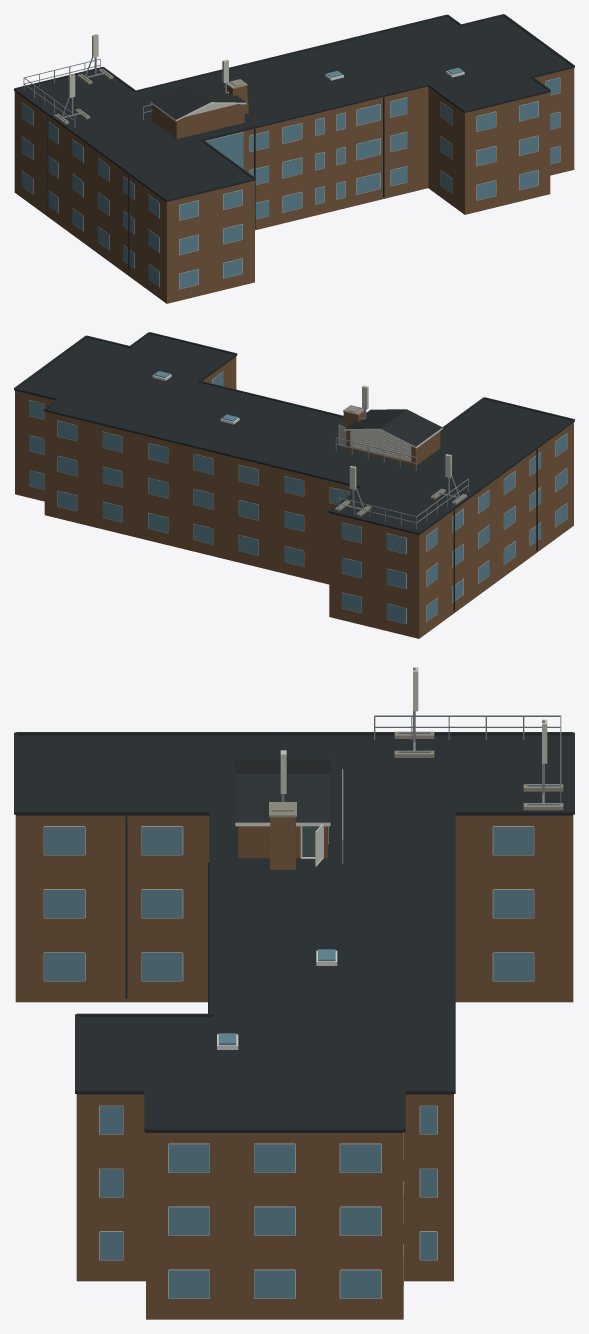
Rendered from 7111-honeypot-building-visual-01.obj.
3 renders of one model, top to bottom at view 1: azimuth 30°, elevation 25°; view 2: azimuth 150°, elevation 25°; view 3: azimuth 270°, elevation 25°, orthographic. The views are drawn at different scales.
Parts seen in each view (by area): view 1: main_roof, facade_05, facade_02, facade_03, facade_07, facade_06, facade_09, pitched_roof, room_gable_wall, facade_13_coping, facade_05_opening_00, rainwater_pipes (+7 smaller); view 2: main_roof, facade_13, facade_02, facade_01, facade_11, pitched_roof, room_white_cladding, facade_13_coping, roof_rails, facade_02_coping, facade_06, room_cladding_joints (+3 smaller); view 3: main_roof, facade_10, facade_04, facade_00, facade_08, facade_12, pitched_roof, facade_02_coping, chimney_brick, room_door_wall, roof_rails, facade_04_opening_01 (+22 smaller).
Part boxes in pixels (<box>): main_roof: <box>17,16,571,199</box>; facade_05: <box>205,86,428,230</box>; facade_02: <box>14,91,166,303</box>; facade_03: <box>167,180,254,303</box>; facade_07: <box>465,92,550,214</box>; facade_06: <box>428,87,464,214</box>; facade_09: <box>535,68,574,175</box>; pitched_roof: <box>150,83,246,119</box>; room_gable_wall: <box>176,104,244,138</box>; facade_13_coping: <box>135,14,446,92</box>; facade_05_opening_00: <box>205,131,243,168</box>; rainwater_pipes: <box>47,97,384,274</box>; main_roof: <box>17,334,571,532</box>; facade_13: <box>44,411,358,584</box>; facade_02: <box>419,422,573,638</box>; facade_01: <box>329,513,419,638</box>; facade_11: <box>15,390,54,501</box>; pitched_roof: <box>344,409,442,446</box>; room_white_cladding: <box>350,430,411,461</box>; facade_13_coping: <box>44,409,362,487</box>; roof_rails: <box>335,437,468,529</box>; facade_02_coping: <box>419,419,574,534</box>; facade_06: <box>202,356,236,389</box>; room_cladding_joints: <box>350,430,410,459</box>; main_roof: <box>17,735,571,1128</box>; facade_10: <box>146,1133,403,1319</box>; facade_04: <box>15,815,209,1002</box>; facade_00: <box>455,815,573,1002</box>; facade_08: <box>76,1094,145,1281</box>; facade_12: <box>403,1094,453,1281</box>; pitched_roof: <box>235,759,330,822</box>; facade_02_coping: <box>15,732,573,735</box>; chimney_brick: <box>270,817,295,869</box>; room_door_wall: <box>238,826,327,858</box>; roof_rails: <box>342,715,561,863</box>; facade_04_opening_01: <box>141,952,183,981</box>.
Size of the model in its own units: 37.95 by 12.85 by 22.6.
